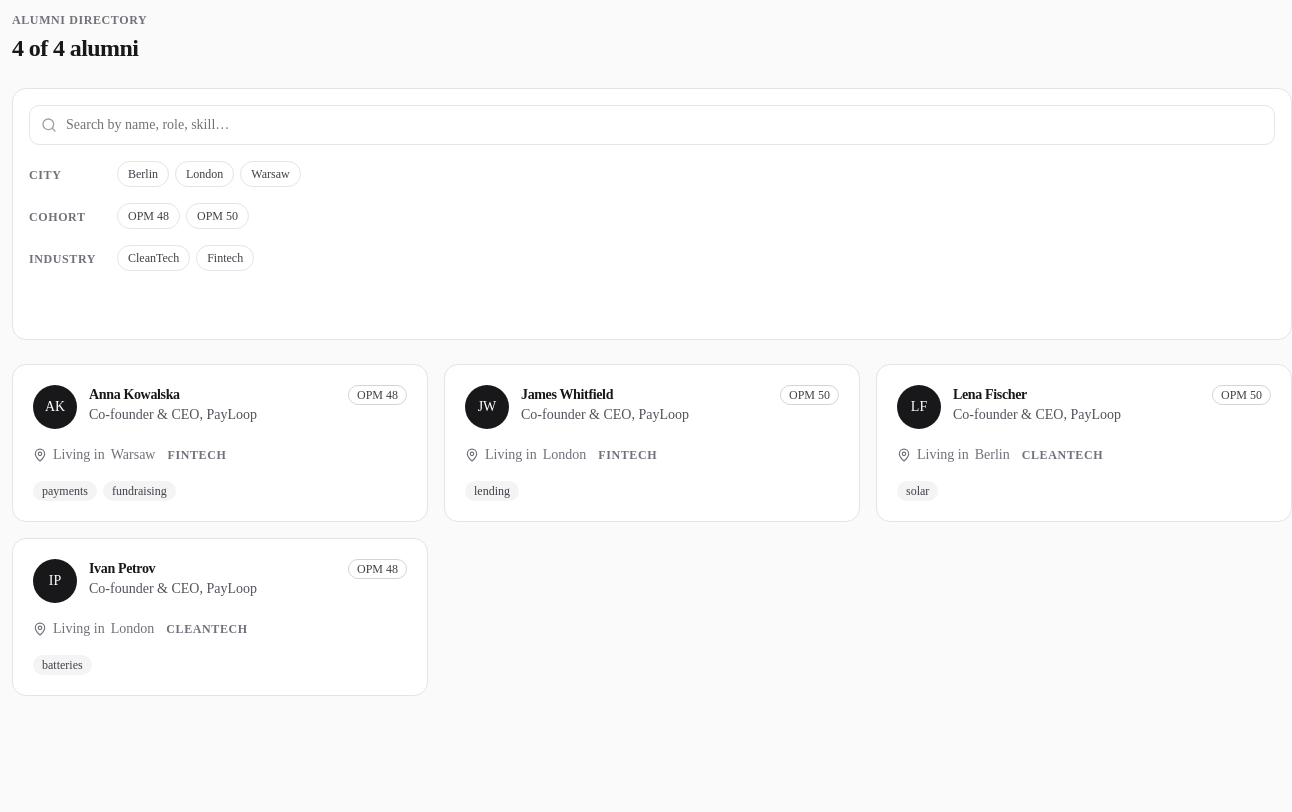
Test: Directory › keeps the "Clear filters" slot out of the accessibility tree until filters are active
This screenshot has width=1292, height=812.
Expected: the heading "4 of 4 alumni" is shown, [12, 35, 138, 61]
Expected: the button "Clear filters" is not shown
Click the button "Berlin": [143, 174] box [117, 161, 169, 187]
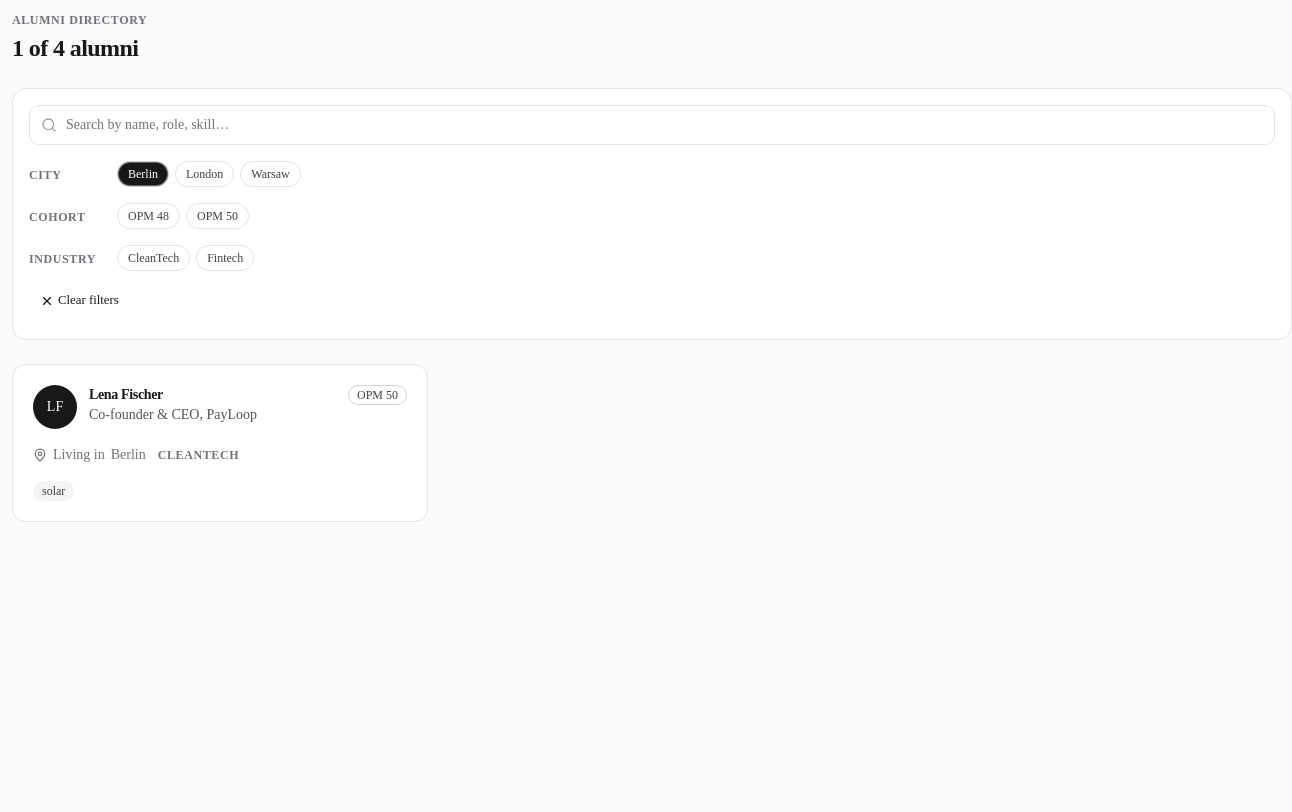
Result: the button "Clear filters" is shown at [29, 287, 130, 315]
